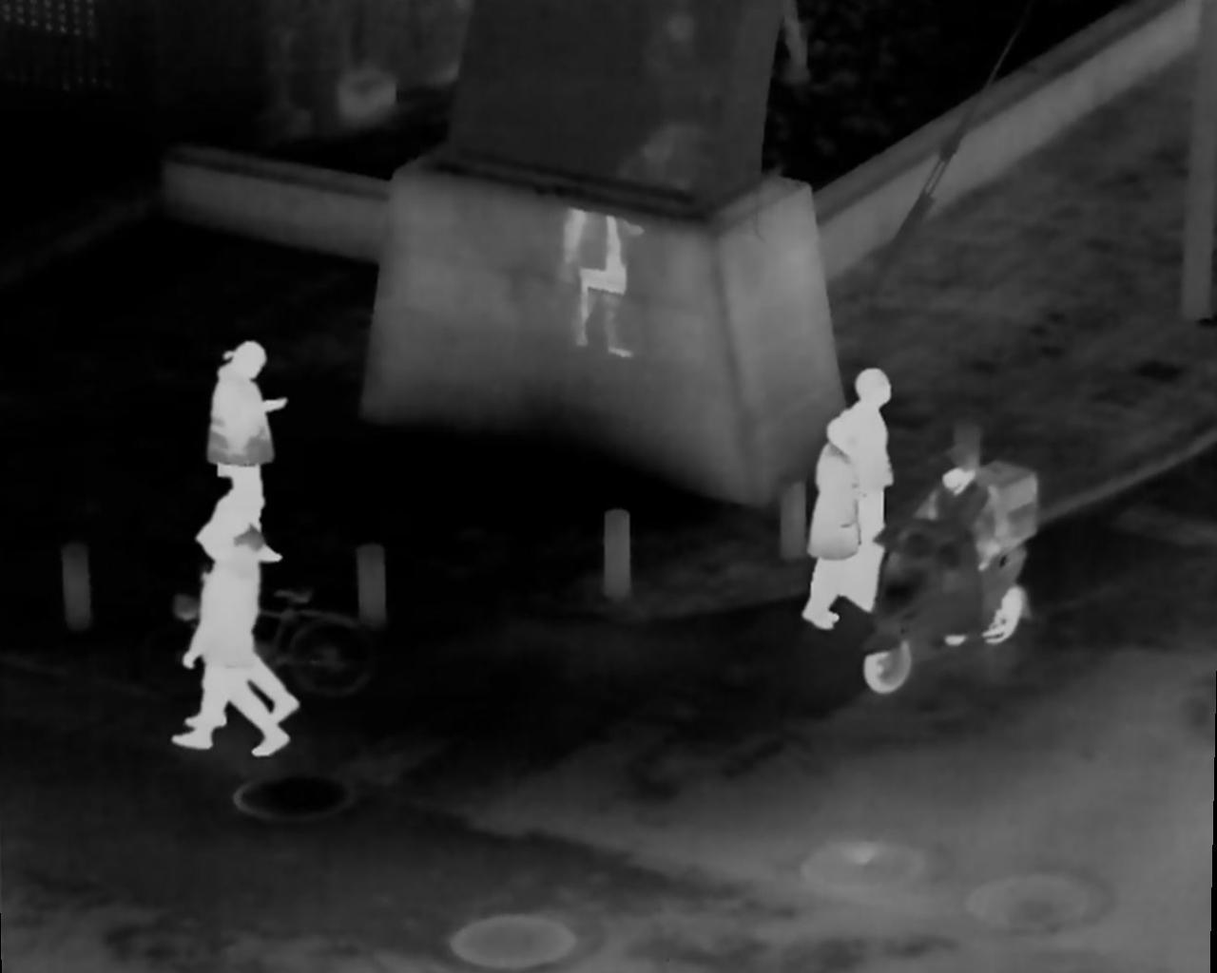person: (175, 525, 291, 755), (911, 451, 1014, 647), (214, 338, 281, 564), (848, 367, 892, 604), (814, 410, 856, 629)
